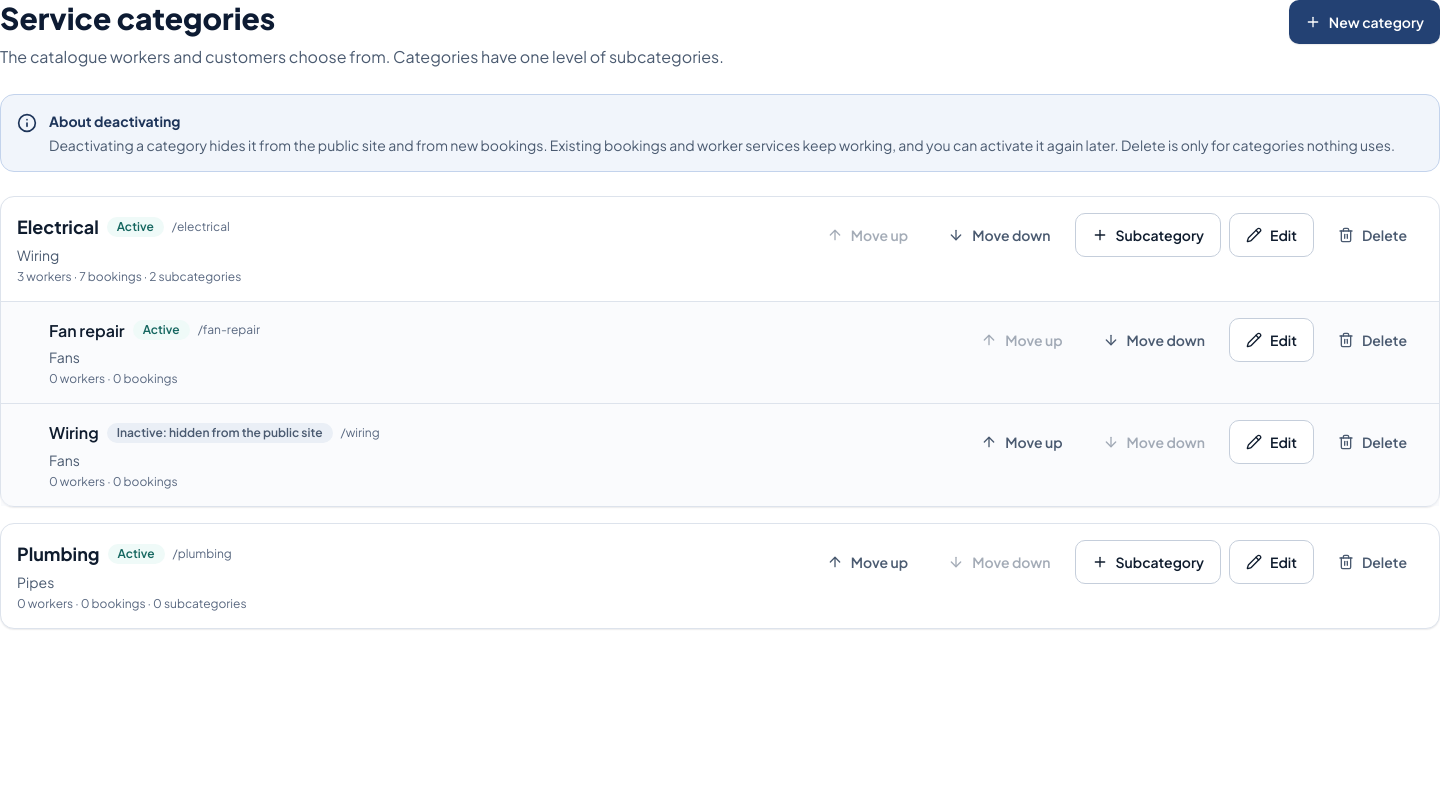
Scenario: category manager › requires typing the slug to delete and shows the server's in-use message
Click the button with aria-label "Delete Electrical": (1372, 235) [1322,213,1423,257]
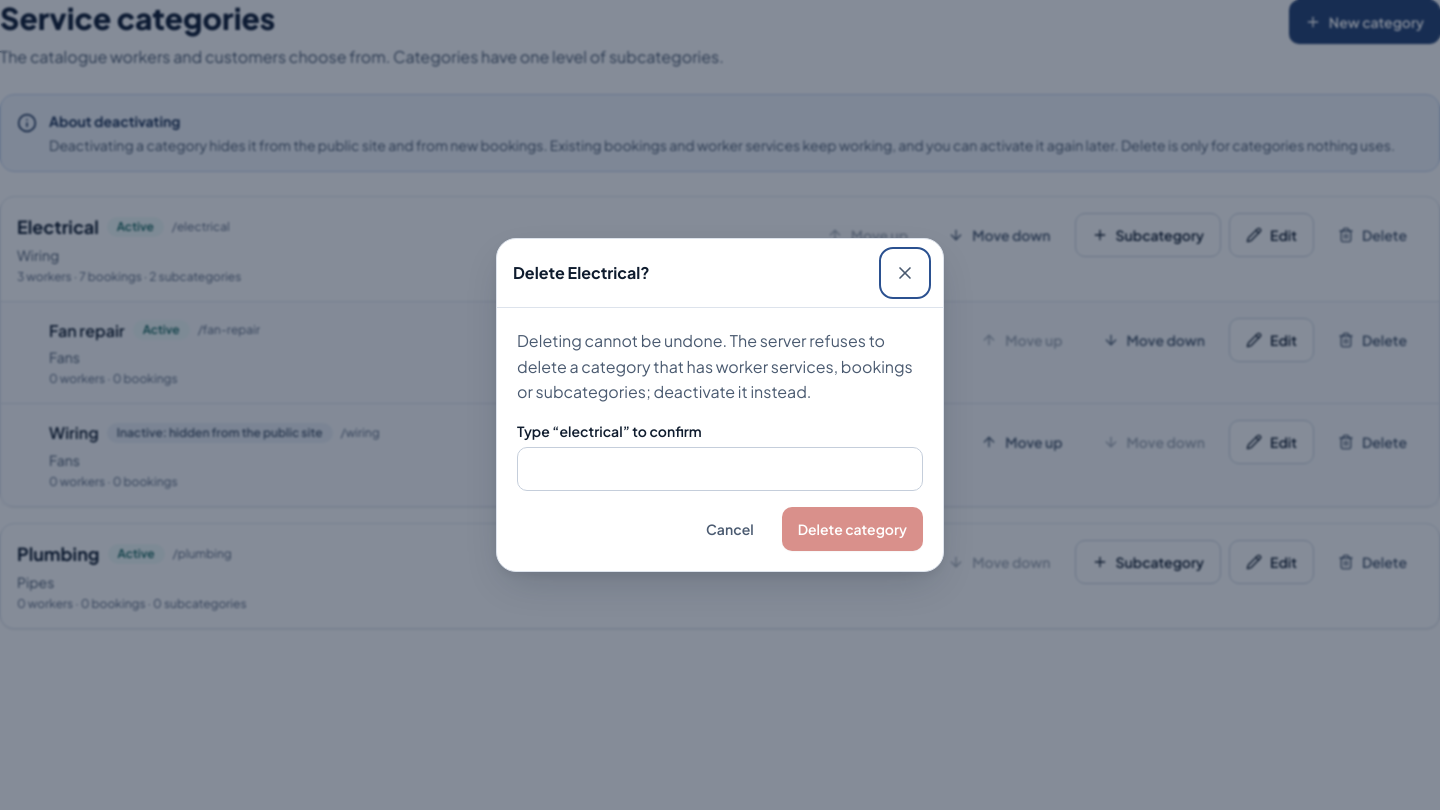
Now the button "Delete category" is disabled, box [782,507,923,551]
In the field labelled "Type “electrical” to confirm": (720, 469) [517,447,923,491], type "electrical"
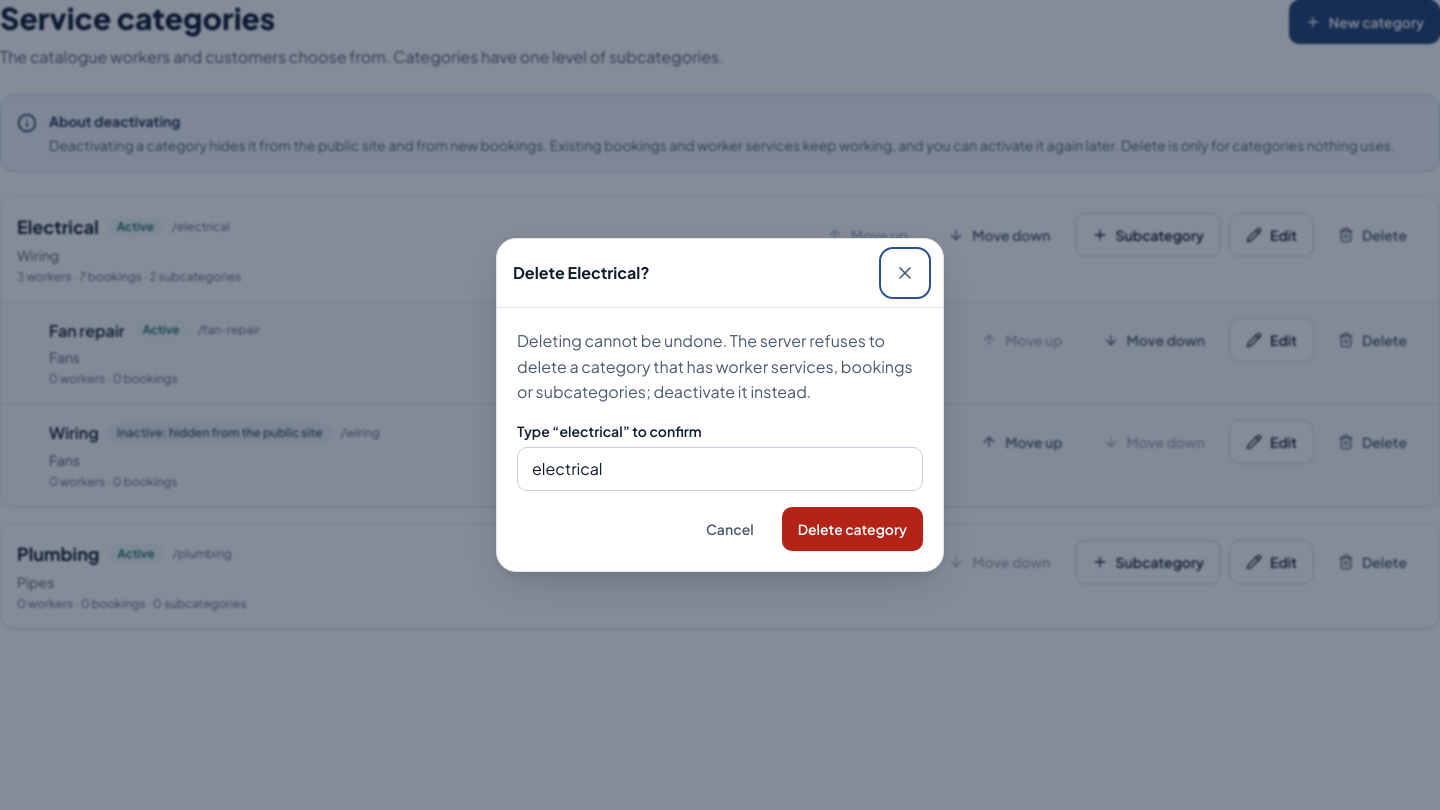
Click the button "Delete category": (852, 529) [782,507,923,551]
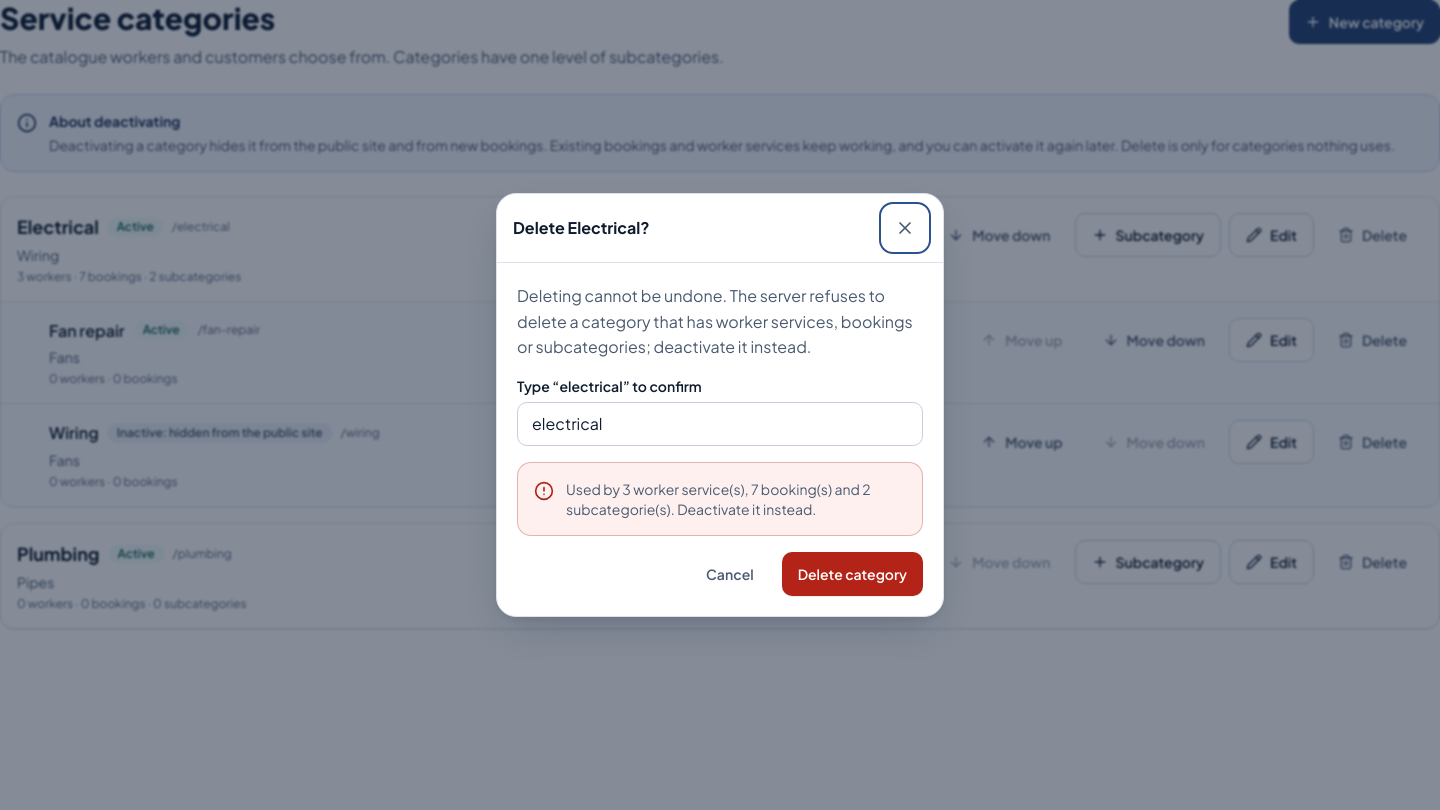
Now the text "Deactivate it instead" is shown, box [566,480,871,518]
